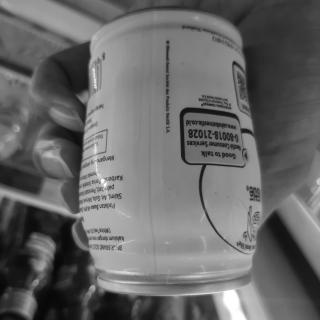alumunium_can: (66, 4, 266, 302)
